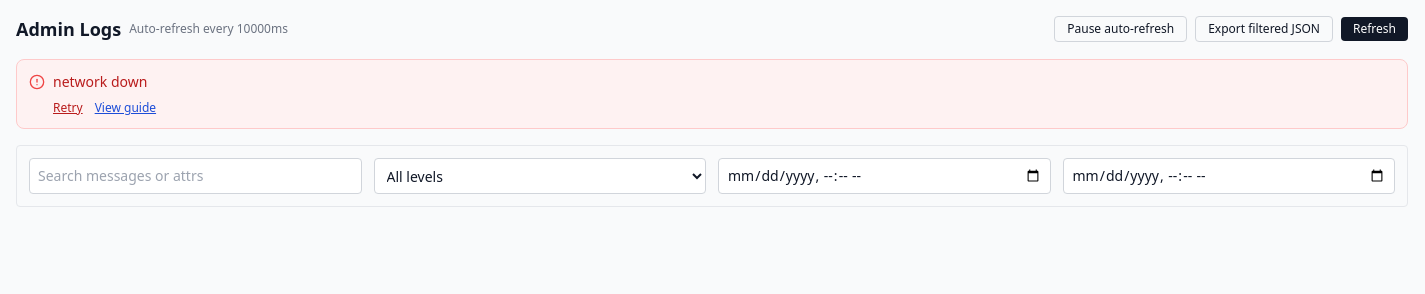
AdminLogs › recovers from a logs load failure through an error-scoped Retry that refetches
Expected: the message shows "network down", left=53, top=72, right=147, bottom=91
Expected: the field named "Search logs" is shown, left=29, top=158, right=362, bottom=194
Click the button "Retry" at [68, 108], box left=53, top=100, right=83, bottom=116
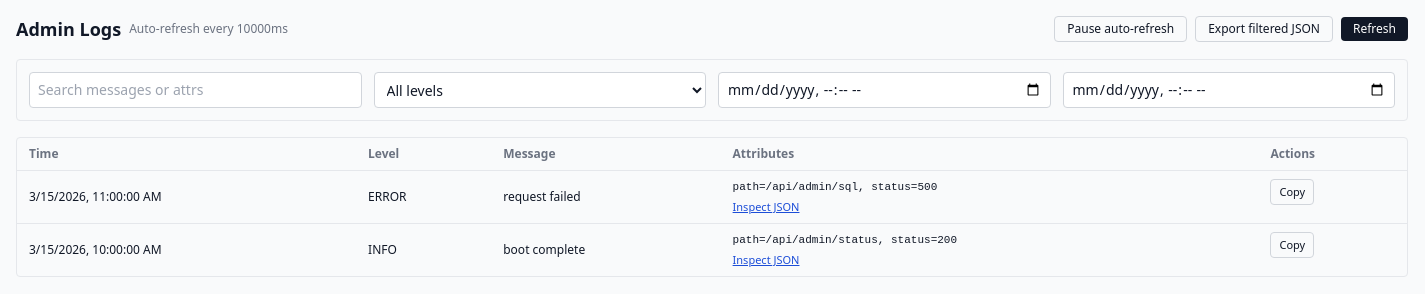
Now the message "network down Retry View guide" is gone
